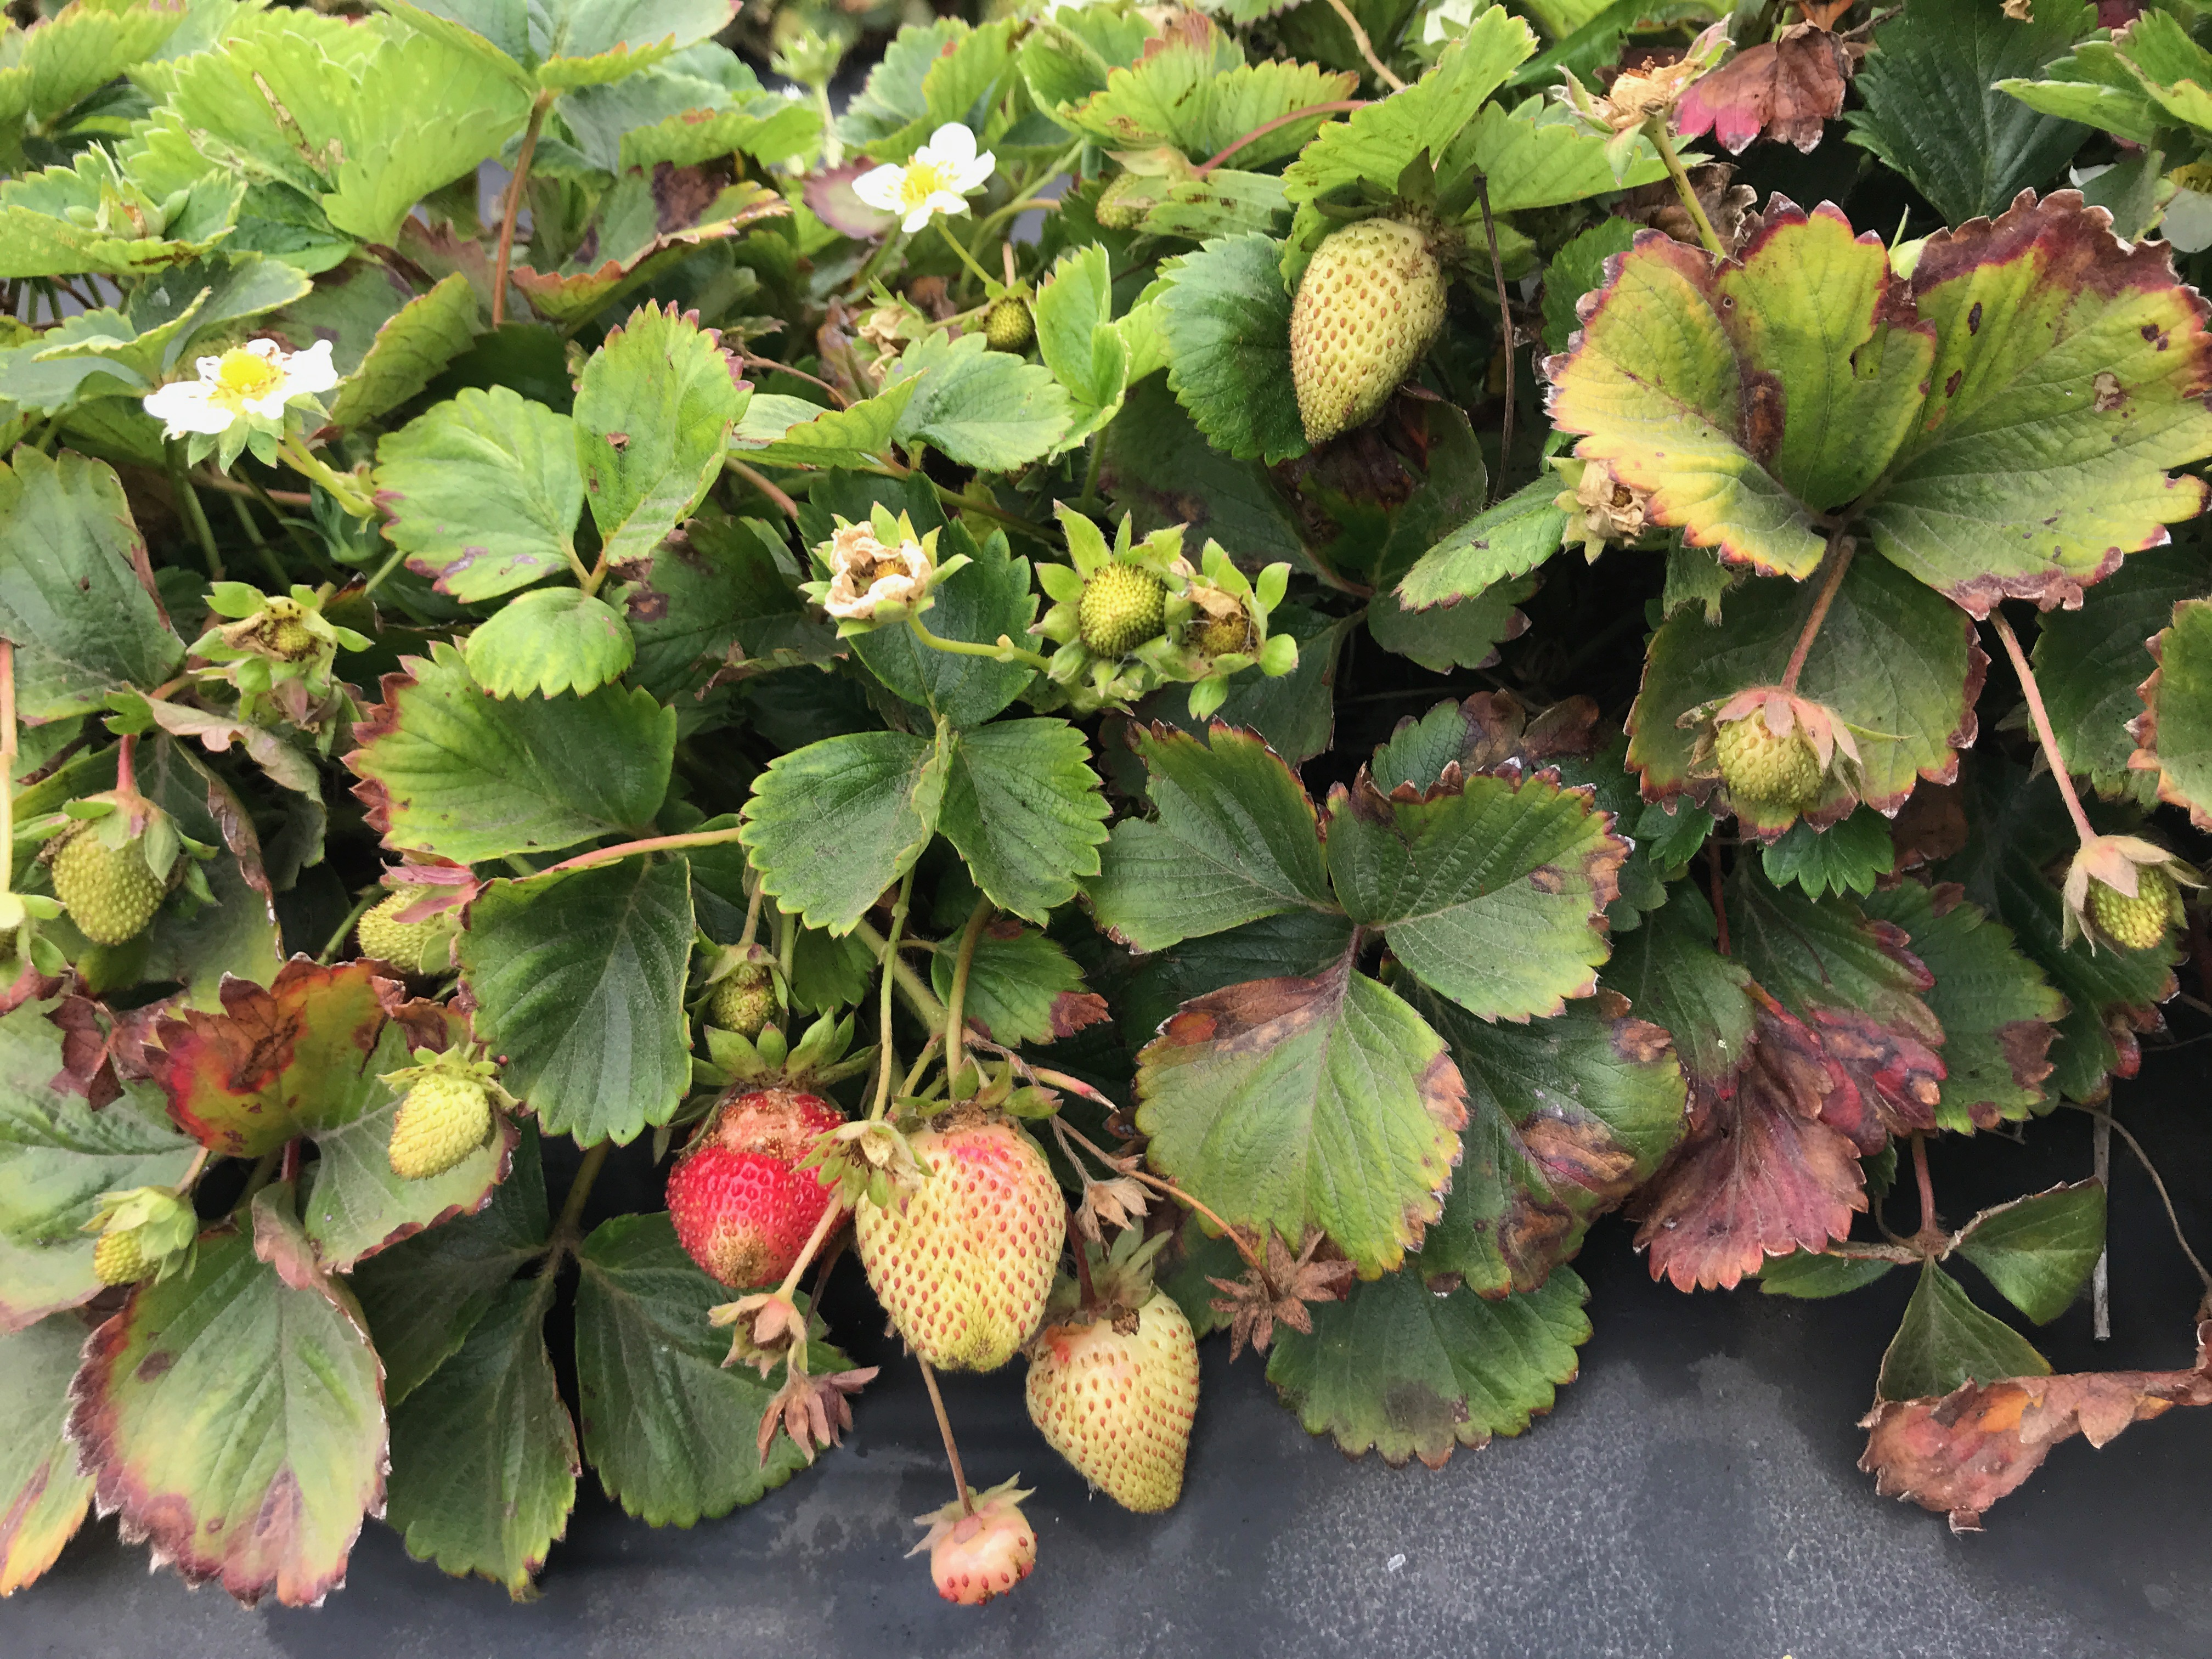ripe_strawberry: (662, 1053, 864, 1297)
unripe_strawberry: (852, 1080, 1075, 1385), (1019, 1249, 1209, 1518), (1284, 199, 1456, 464), (45, 791, 188, 951), (354, 856, 482, 985), (1710, 685, 1834, 817), (920, 1480, 1042, 1614), (383, 1046, 495, 1187), (85, 1183, 209, 1291), (2073, 833, 2179, 957), (1066, 551, 1172, 662), (1089, 139, 1193, 240), (698, 953, 787, 1039), (979, 293, 1040, 357)
